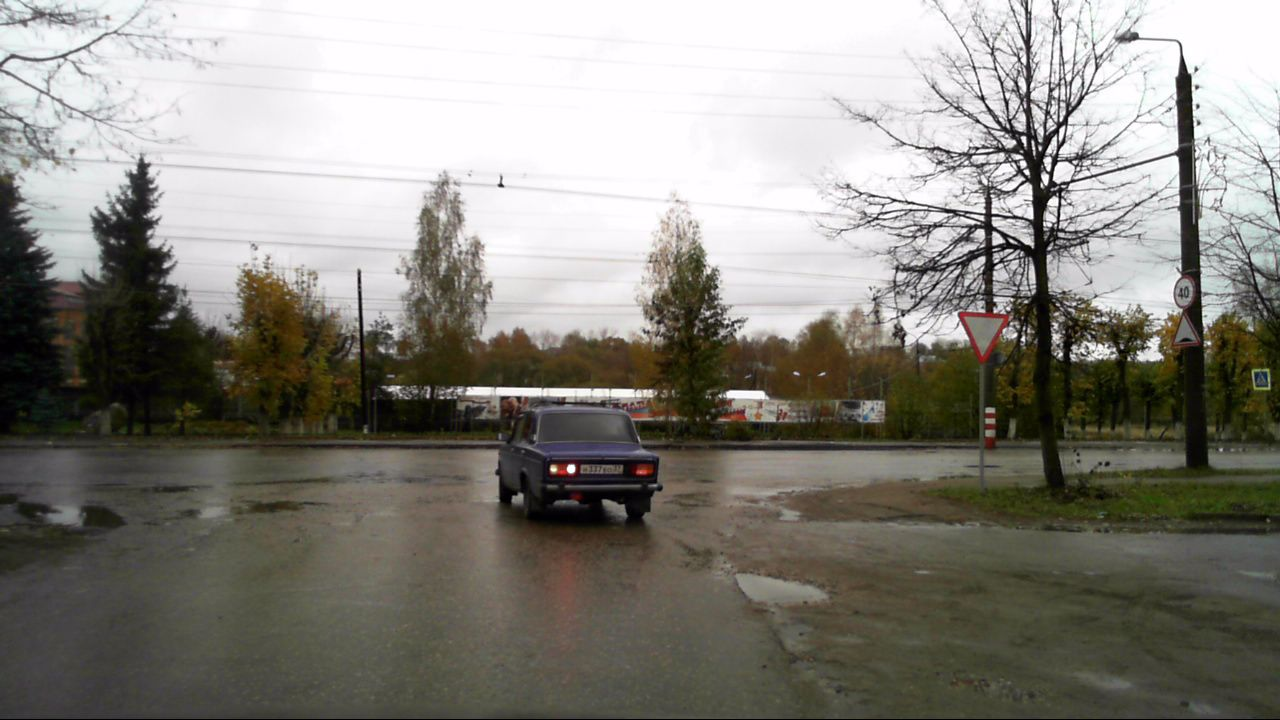speed_warning_40: (1173, 277, 1197, 309)
